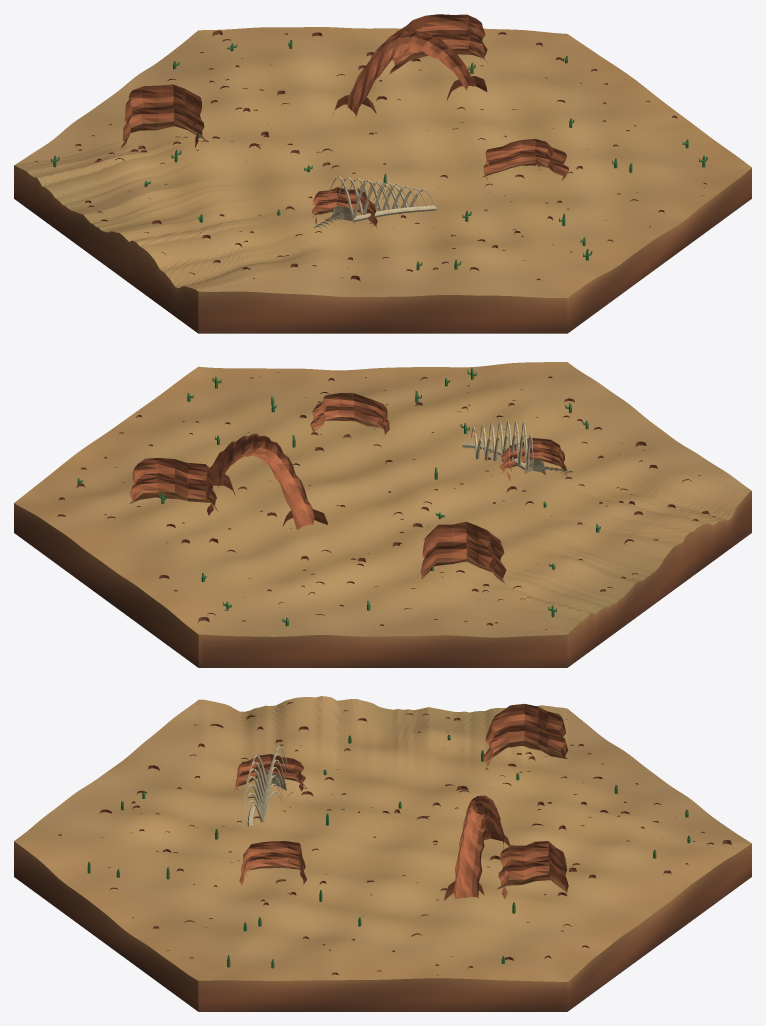
3 views of the same model, one above another, from view 1: azimuth 30°, elevation 25°; view 2: azimuth 150°, elevation 25°; view 3: azimuth 270°, elevation 25° (orthographic).
Parts seen in each view (by area): view 1: terrain, hex_side_cut, sandstone_cliffs, rock_arches, fossil_skeleton, loose_rocks, cacti; view 2: terrain, hex_side_cut, sandstone_cliffs, rock_arches, loose_rocks, fossil_skeleton, cacti; view 3: terrain, hex_side_cut, sandstone_cliffs, rock_arches, loose_rocks, fossil_skeleton, cacti.
Part boxes in pixels (<box>): terrain: <box>14,27,751,297</box>; hex_side_cut: <box>14,165,751,333</box>; sandstone_cliffs: <box>121,14,568,227</box>; rock_arches: <box>332,29,487,117</box>; fossil_skeleton: <box>314,176,436,229</box>; loose_rocks: <box>34,30,706,282</box>; cacti: <box>51,40,707,270</box>; terrain: <box>14,362,751,637</box>; hex_side_cut: <box>14,491,751,667</box>; sandstone_cliffs: <box>129,393,567,584</box>; rock_arches: <box>210,433,327,529</box>; loose_rocks: <box>57,372,709,629</box>; fossil_skeleton: <box>462,421,574,474</box>; cacti: <box>77,368,600,626</box>; terrain: <box>14,696,751,981</box>; hex_side_cut: <box>14,841,751,1011</box>; sandstone_cliffs: <box>234,703,568,899</box>; rock_arches: <box>444,795,510,900</box>; loose_rocks: <box>58,702,731,975</box>; fossil_skeleton: <box>241,746,288,826</box>; cacti: <box>87,735,690,968</box>.
Size of the model in its own units: 4330 by 855 by 5000.
